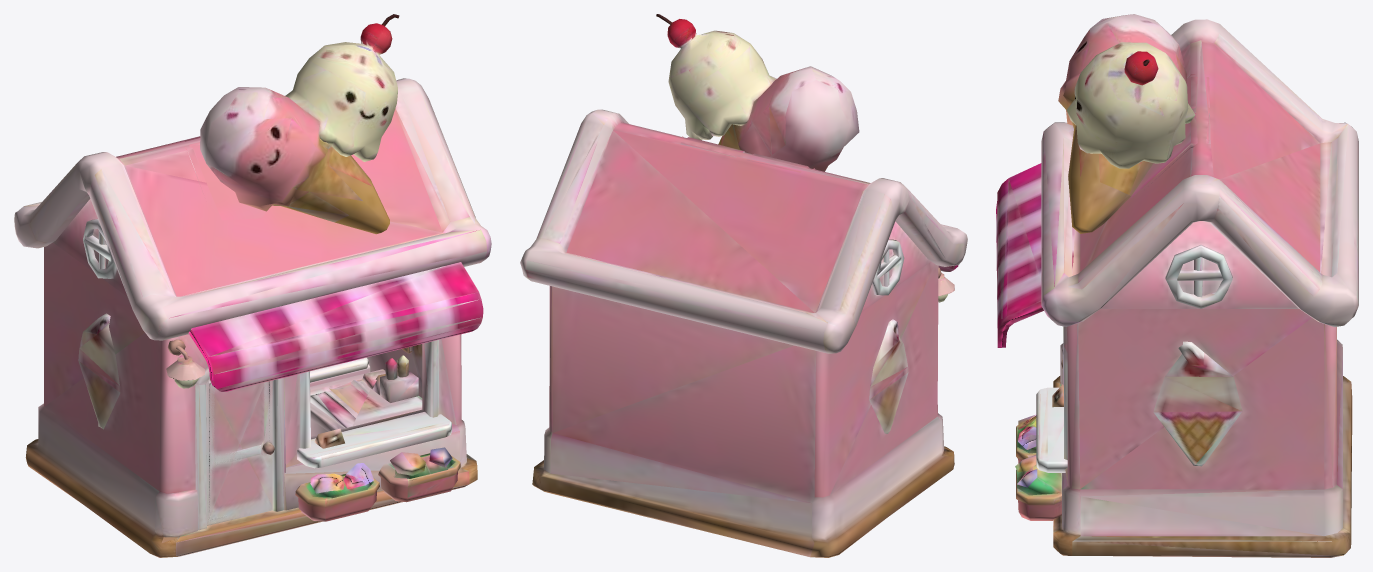
File: icecream.glb
3 views of the same model, side by side, from view 1: azimuth 30°, elevation 25°; view 2: azimuth 150°, elevation 25°; view 3: azimuth 270°, elevation 25° (orthographic). The views are drawn at different scales.
Size of the model in its own units: 0.7564 by 0.9521 by 0.6611.
Materials: 1 (1 with a texture image).
